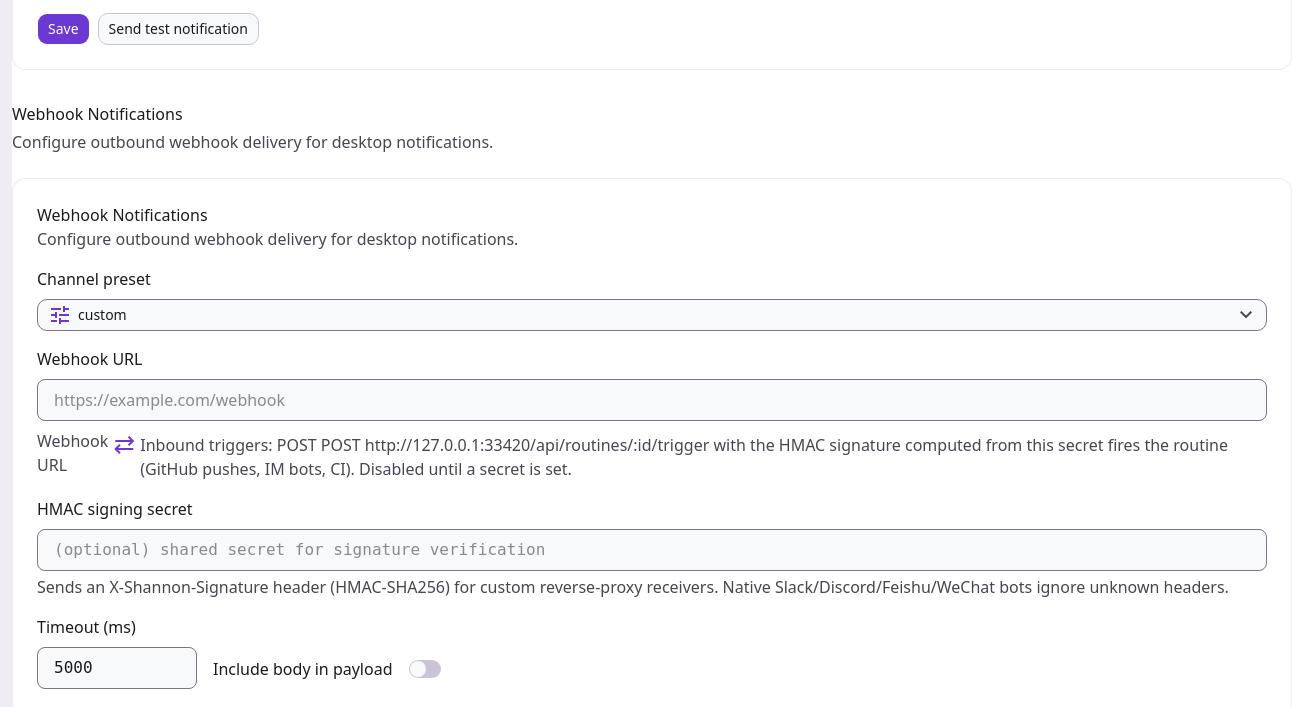
NotificationsSettings — webhook save validation › flags an http://localhost URL as invalid (private-host rejection)
This screenshot has width=1292, height=707.
(page scrolled)
Type "http://localhost:8080/hook" into the field labelled "Webhook URL" at coordinates (652, 400), box [37,379,1267,421]
(page scrolled)
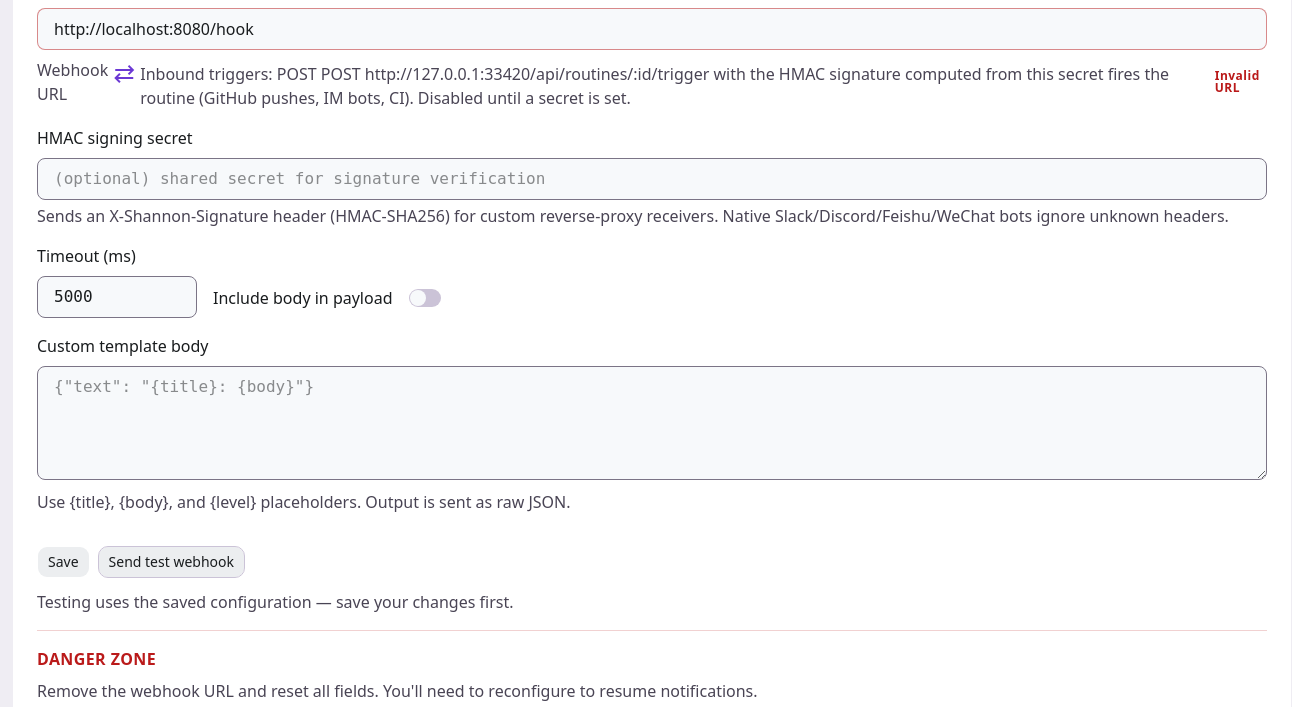
Expected: the button "Save" is disabled, [37,546,90,578]
Now the text "Invalid URL" is shown, box [1215,70,1267,94]
